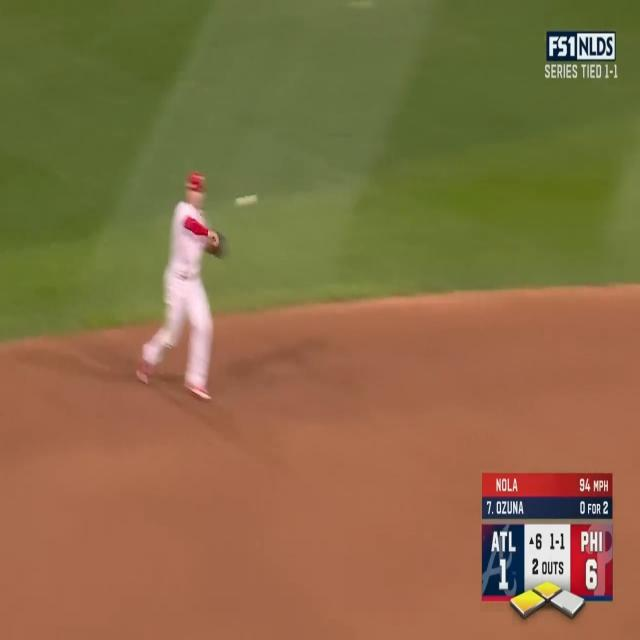baseball: (235, 193, 258, 206)
